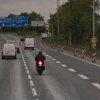Motorcycle: (32, 48, 48, 74)
